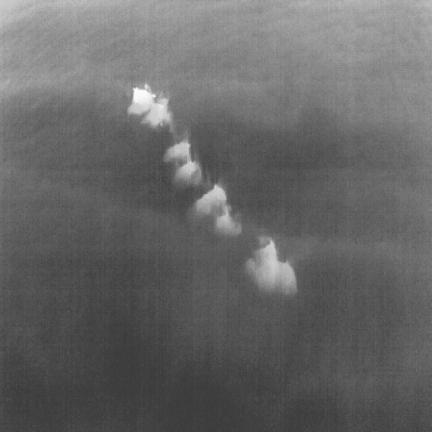flukeprints: (244, 236, 296, 294), (194, 185, 225, 215), (215, 203, 241, 236), (142, 99, 171, 127), (128, 84, 155, 114), (173, 160, 200, 187), (164, 141, 190, 165)
